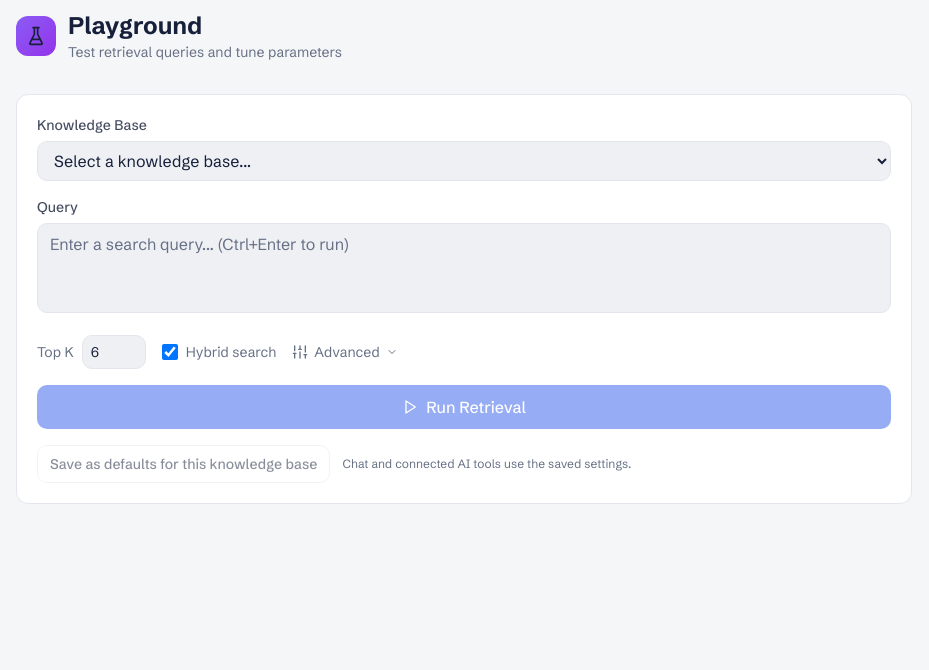
PlaygroundPage: retrieval settings › starts from the settings saved for the chosen knowledge base
Step 1. Select "Handbook" in the dropdown named "Knowledge base" → (464, 161), box x1=37 y1=141 x2=891 y2=181
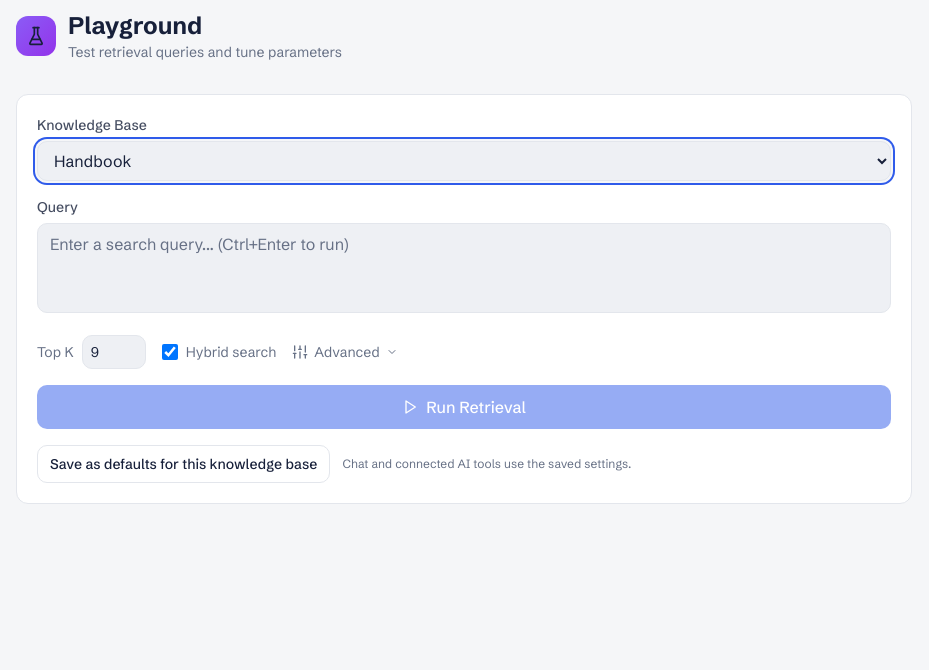
Result: the number field named "Top K" holds "9" at x1=82 y1=335 x2=146 y2=369
Step 2. Click the button "Advanced" → (345, 352), box x1=292 y1=335 x2=398 y2=369
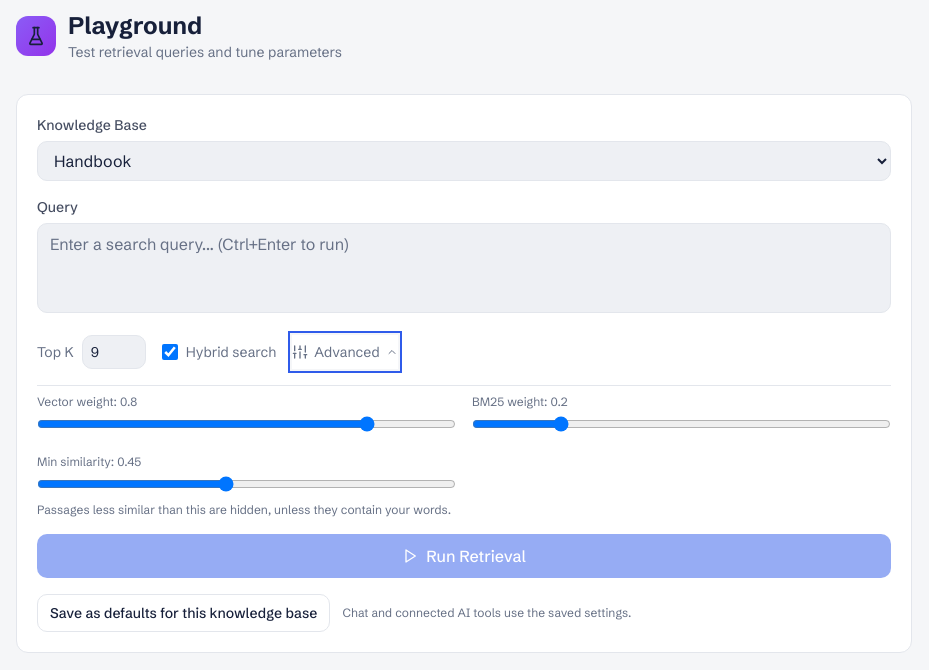
Result: the slider named "Minimum similarity" holds "0.45" at x1=37 y1=476 x2=456 y2=492
Result: the slider named "Vector weight" holds "0.8" at x1=37 y1=416 x2=456 y2=432
